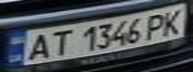1: (75, 24, 100, 52)
3: (93, 20, 115, 50)
4: (112, 17, 133, 47)
6: (124, 15, 148, 44)
A: (21, 30, 54, 62)
K: (157, 6, 190, 36)
P: (142, 10, 172, 40)
T: (42, 27, 75, 57)
